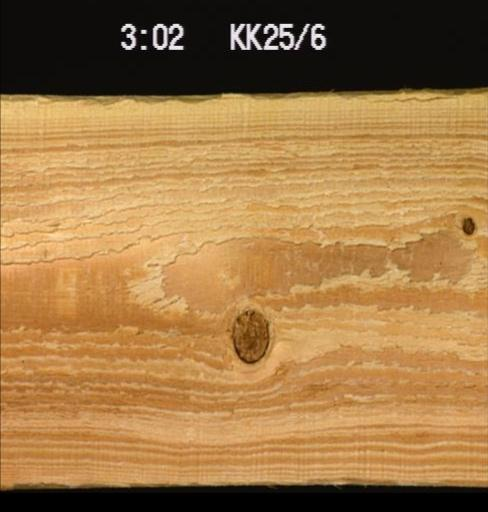dry_knot: (228, 304, 270, 364), (458, 212, 475, 237)
split: (365, 93, 461, 110)
wave: (0, 91, 323, 106), (307, 475, 485, 488)
